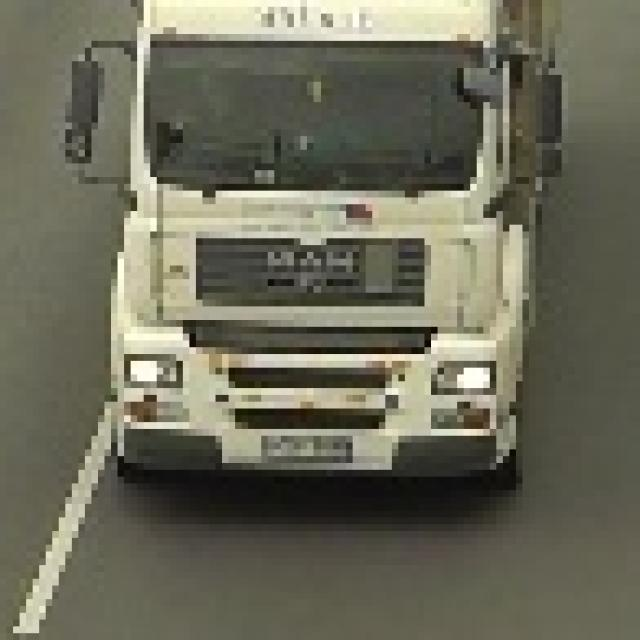TRUCK: (68, 1, 566, 493)
